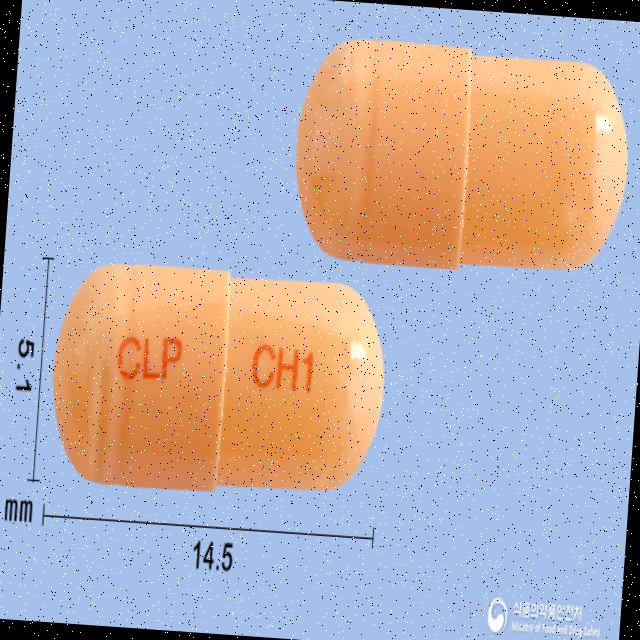Ceprion Cap: (42, 252, 396, 509)
